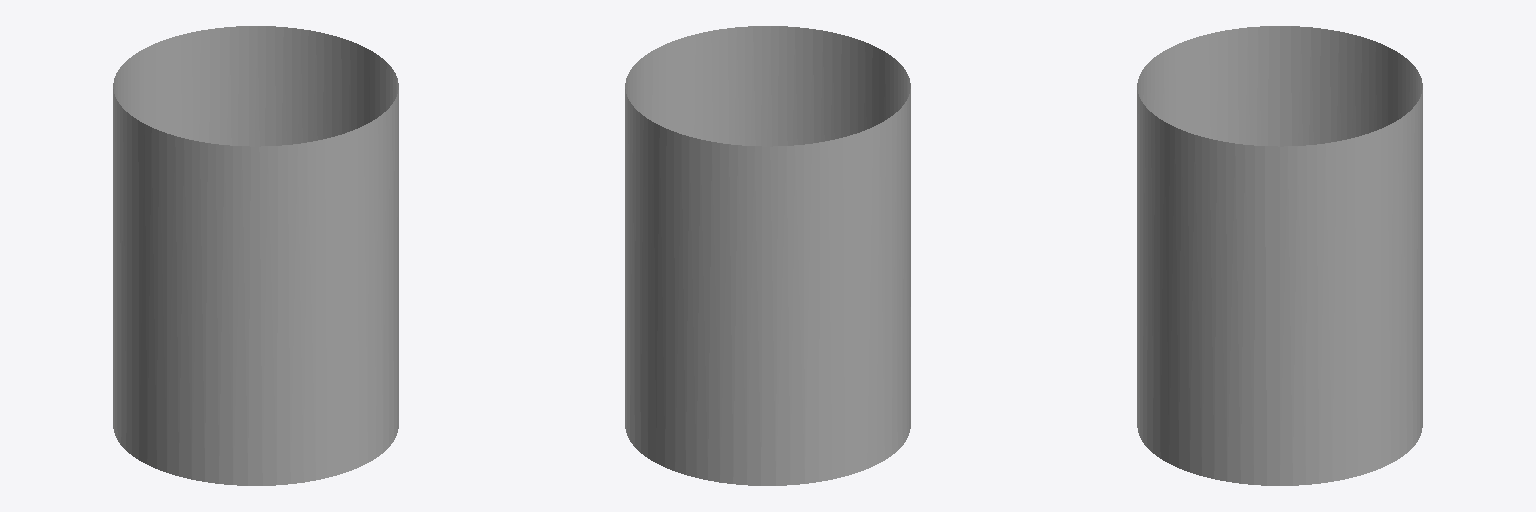
Rendered from original-27.obj.
3 views of the same model, side by side, from view 1: azimuth 30°, elevation 25°; view 2: azimuth 150°, elevation 25°; view 3: azimuth 270°, elevation 25° (orthographic).
Parts seen in each view (by area): view 1: Obj_000027_1/Obj_000027/mesh28/mesh28-geometry#mesh28-geometry; view 2: Obj_000027_1/Obj_000027/mesh28/mesh28-geometry#mesh28-geometry; view 3: Obj_000027_1/Obj_000027/mesh28/mesh28-geometry#mesh28-geometry.
Boxes of the visible parts, x1=… form: Obj_000027_1/Obj_000027/mesh28/mesh28-geometry#mesh28-geometry: x1=113, y1=26, x2=398, y2=485; Obj_000027_1/Obj_000027/mesh28/mesh28-geometry#mesh28-geometry: x1=625, y1=26, x2=910, y2=485; Obj_000027_1/Obj_000027/mesh28/mesh28-geometry#mesh28-geometry: x1=1137, y1=26, x2=1422, y2=485.
Bounding box in the file's own units: 1.06 × 1.39 × 1.06.